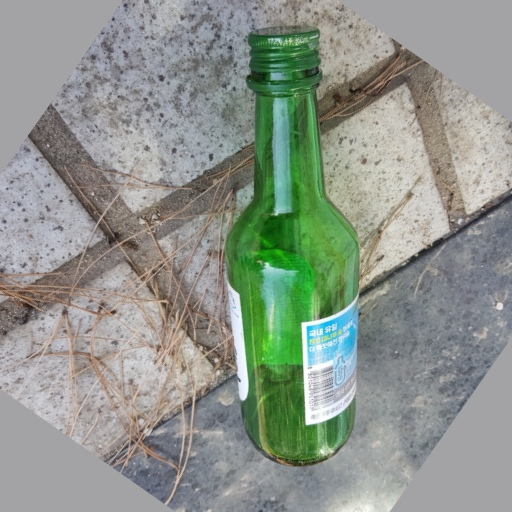Glass_0: (221, 17, 366, 464)
